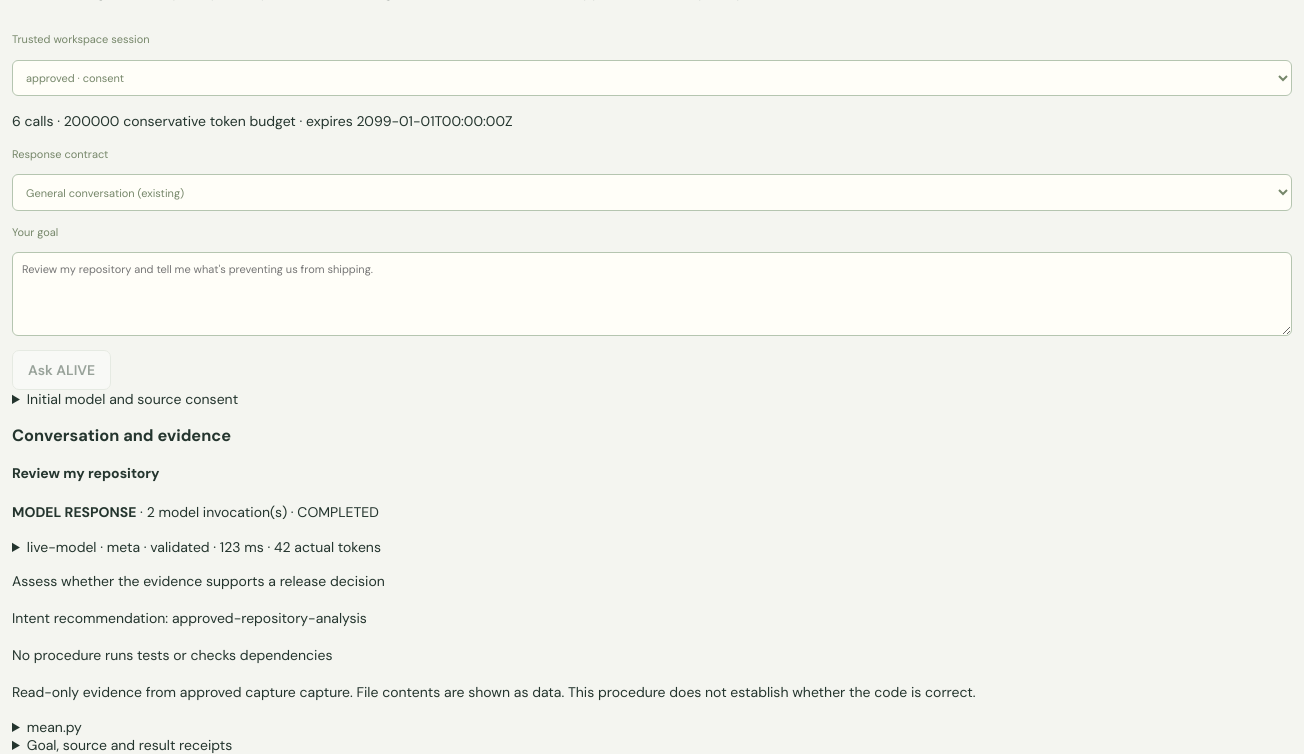
Test case: shows captured-file evidence when the model selects read-only inspection
(page scrolled)
Check: the element named "Captured file evidence" is shown, box [12,683,976,736]
Click the heading "mean.py". click: (54, 727)
box: [27,718,82,736]
(page scrolled)
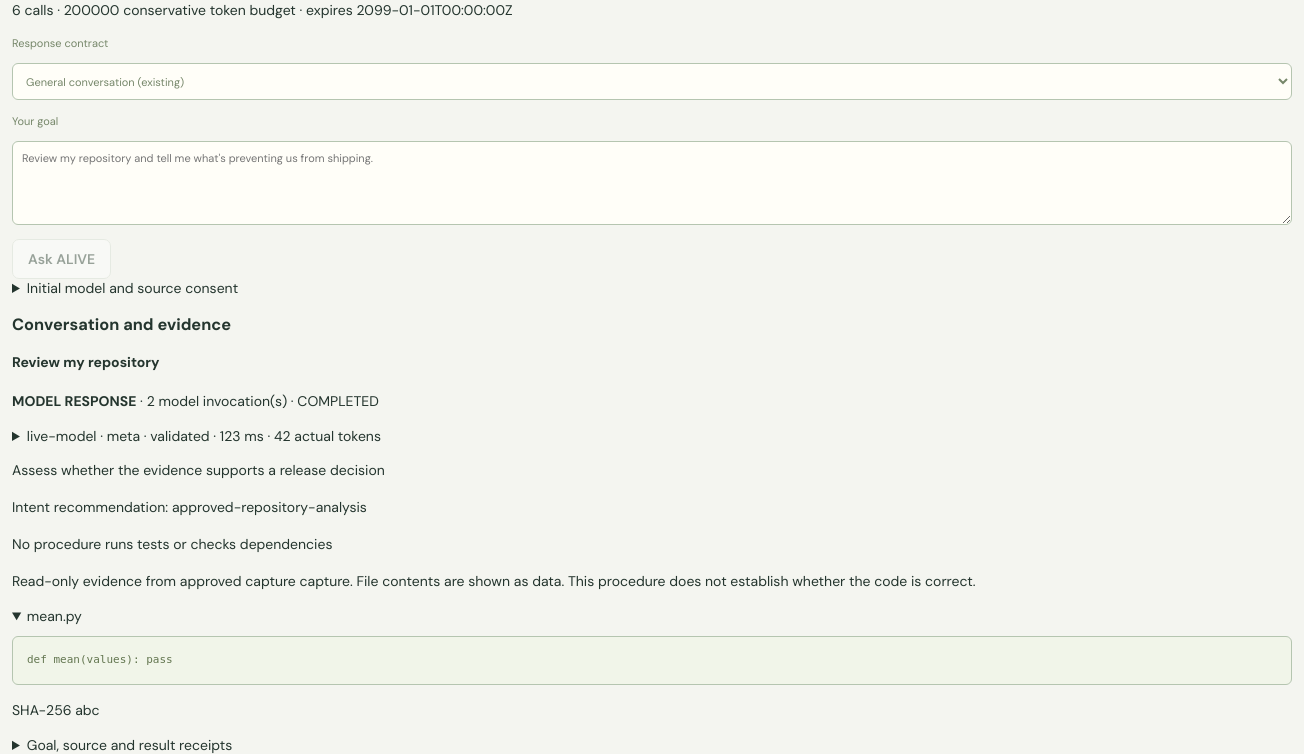
Check: the text "def mean(values): pass" is shown, box [12,636,1292,685]
